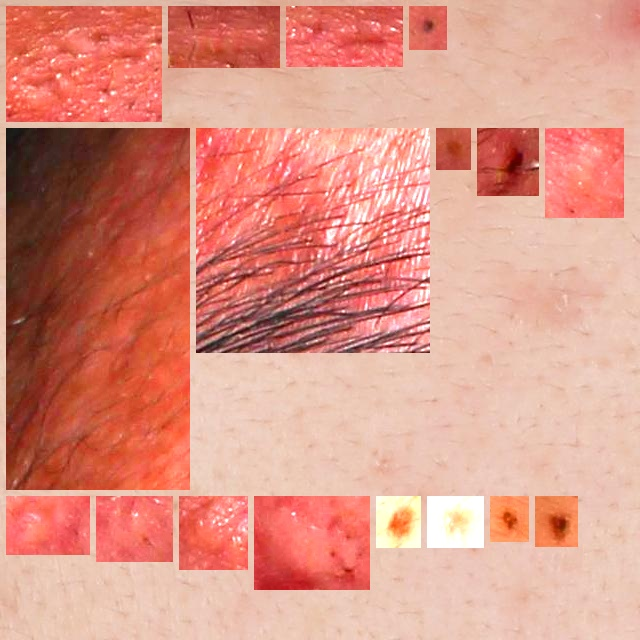hypertrophic_scar: (14, 136, 182, 482), (204, 136, 422, 345), (14, 14, 154, 114), (262, 504, 362, 582), (553, 136, 616, 210), (294, 14, 395, 59), (176, 14, 272, 60), (187, 504, 240, 562), (104, 504, 165, 554), (14, 504, 82, 547)
nevus: (435, 504, 476, 540), (384, 504, 413, 540), (543, 504, 570, 539), (498, 504, 521, 534), (417, 14, 439, 42), (444, 136, 463, 162)
pustule: (485, 136, 531, 188)
